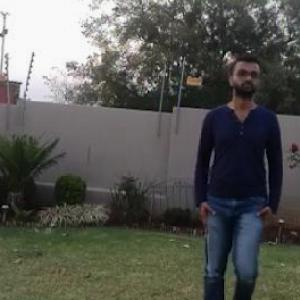follow: (184, 53, 283, 299)
